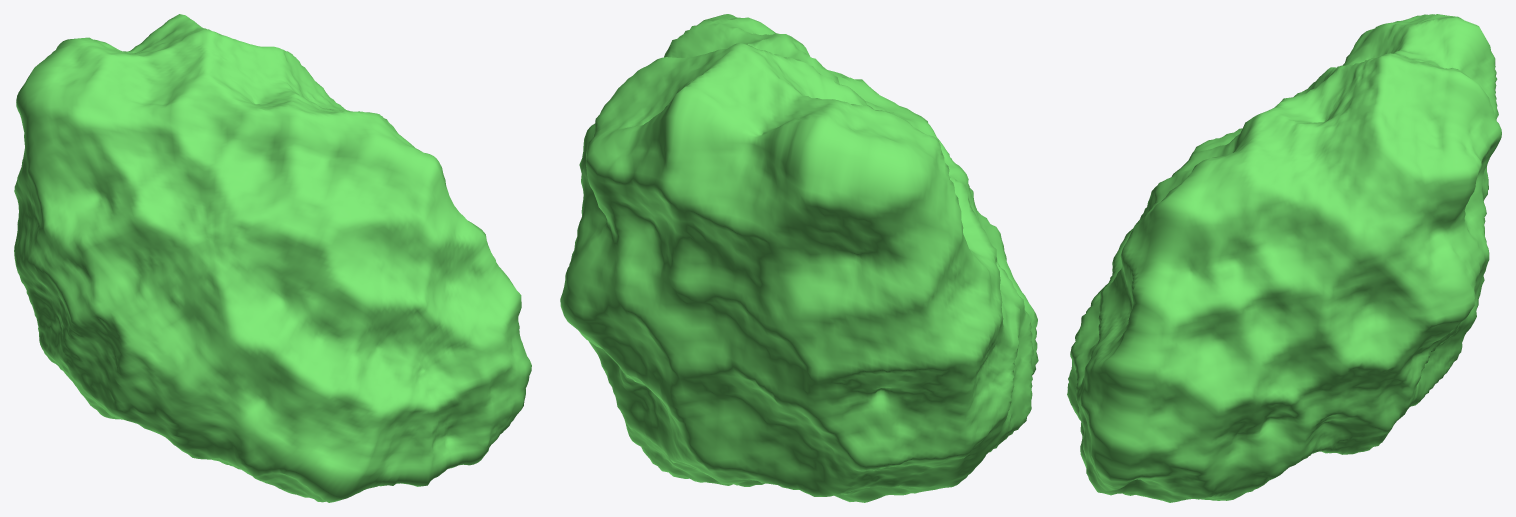
Rendered from asteroide_5.glb.
3 views of the same model, side by side, from view 1: azimuth 30°, elevation 25°; view 2: azimuth 150°, elevation 25°; view 3: azimuth 270°, elevation 25° (orthographic). The views are drawn at different scales.
Visible parts, largest first — view 1: rock; view 2: rock; view 3: rock.
Part boxes in pixels (x1,y1,x2,y2): rock: [14, 14, 531, 502]; rock: [560, 14, 1038, 502]; rock: [1067, 14, 1501, 502].
Size of the model in its own units: 3.75 by 3.72 by 3.62.
